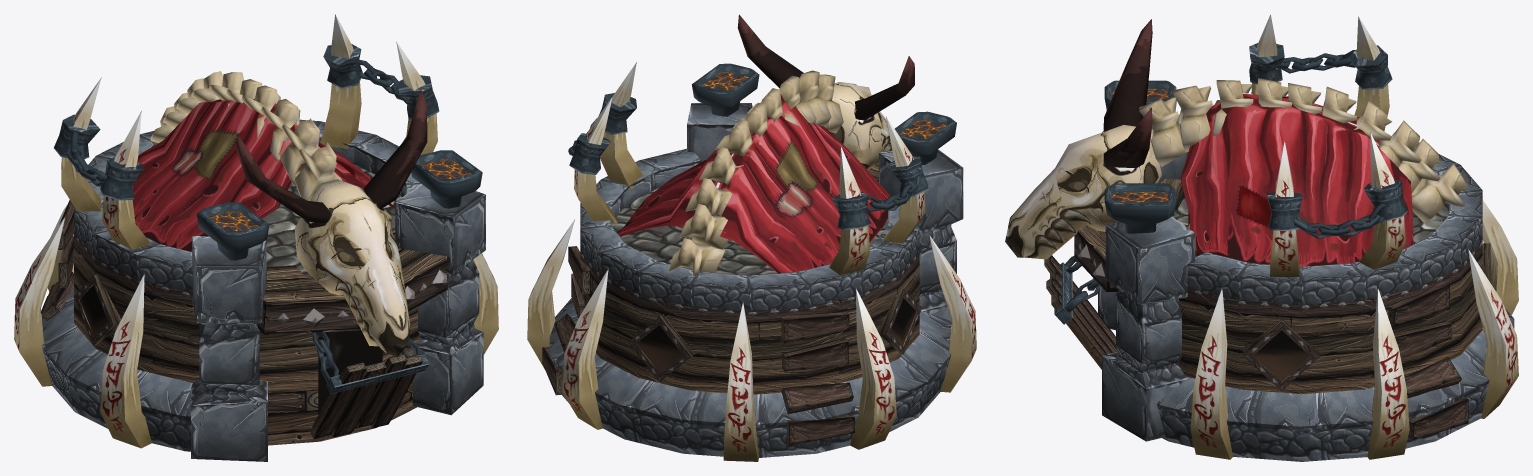
File: Orc_Town_Hall_1.FBX
3 views of the same model, side by side, from view 1: azimuth 30°, elevation 25°; view 2: azimuth 150°, elevation 25°; view 3: azimuth 270°, elevation 25° (orthographic). The views are drawn at different scales.
Visible parts, largest first — view 1: base_build, vertebra, fang (×3), step001, awning, roofing, manacles (×2), door, Perfume_Burner, ceiling, Perfume_burner, Plane006 (+2 smaller); view 2: base_build, step001, fang (×3), awning, vertebra, manacles (×2), ceiling, Perfume_burner, Perfume_Burner, coal (×2); view 3: base_build, step001, vertebra, awning, fang (×3), manacles (×2), door, Perfume_burner, roofing, chains003, ceiling, Perfume_Burner (+1 smaller).
Boxes of the visible parts, left/top/right/bottom form: base_build: left=41, top=119, right=485, bottom=461; vertebra: left=150, top=71, right=427, bottom=357; fang (×3): left=14, top=14, right=498, bottom=448; step001: left=41, top=200, right=419, bottom=445; awning: left=132, top=99, right=395, bottom=251; roofing: left=257, top=232, right=449, bottom=334; manacles (×2): left=54, top=44, right=439, bottom=200; door: left=311, top=354, right=423, bottom=438; Perfume_Burner: left=196, top=202, right=269, bottom=260; ceiling: left=262, top=164, right=401, bottom=275; Perfume_burner: left=411, top=150, right=482, bottom=208; Plane006: left=318, top=330, right=382, bottom=434; base_build: left=549, top=103, right=963, bottom=457; step001: left=542, top=246, right=921, bottom=445; fang (×3): left=527, top=62, right=976, bottom=461; awning: left=617, top=94, right=890, bottom=273; vertebra: left=669, top=14, right=914, bottom=276; manacles (×2): left=568, top=93, right=928, bottom=229; ceiling: left=611, top=187, right=887, bottom=275; Perfume_burner: left=692, top=63, right=759, bottom=116; Perfume_Burner: left=895, top=111, right=956, bottom=164; coal (×2): left=702, top=72, right=946, bottom=138; base_build: left=1098, top=114, right=1514, bottom=461; step001: left=1178, top=241, right=1490, bottom=439; vertebra: left=1005, top=19, right=1466, bottom=259; awning: left=1180, top=93, right=1413, bottom=266; fang (×3): left=1190, top=14, right=1518, bottom=459; manacles (×2): left=1249, top=43, right=1407, bottom=238; door: left=1044, top=255, right=1117, bottom=369; Perfume_burner: left=1104, top=183, right=1176, bottom=233; roofing: left=1074, top=178, right=1184, bottom=291; chains003: left=1054, top=256, right=1100, bottom=324; ceiling: left=1172, top=197, right=1448, bottom=257; Perfume_Burner: left=1104, top=80, right=1176, bottom=110.
Bounding box in the file's own units: 4456 × 5111 × 3399.
